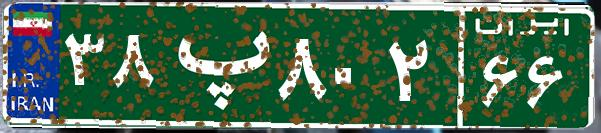0: (330, 28, 385, 110)
2: (385, 28, 445, 110)
3: (57, 26, 110, 107)
6: (475, 38, 525, 113), (525, 38, 570, 115)
8: (273, 28, 330, 110), (110, 28, 158, 105)
پ: (158, 15, 273, 115)
